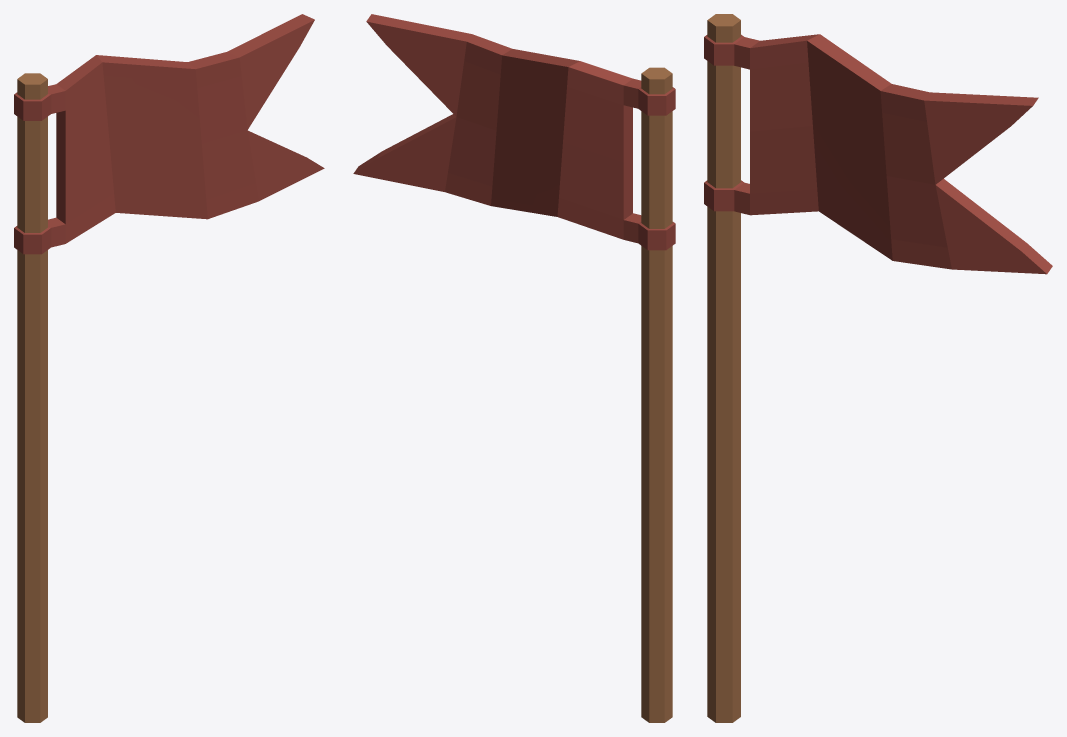
Rendered from flag.glb.
3 renders of one model, left to right at view 1: azimuth 30°, elevation 25°; view 2: azimuth 150°, elevation 25°; view 3: azimuth 330°, elevation 25°, orthographic. The views are drawn at different scales.
Visible parts, largest first — view 1: Flag; view 2: Flag; view 3: Flag.
Part boxes in pixels (box(x1,y1,x2,y2)): Flag: box(14, 14, 324, 722); Flag: box(353, 14, 675, 722); Flag: box(704, 14, 1052, 722).
Bounding box in the file's own units: 2.05 × 4.06 × 0.2778.
